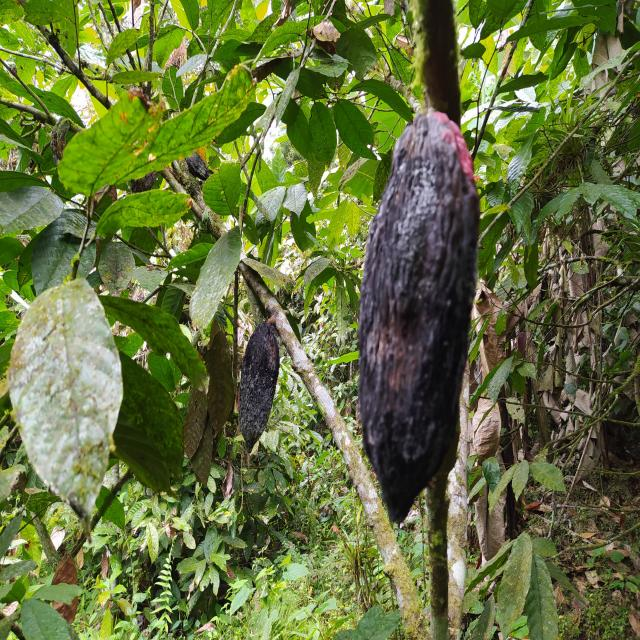Fitoftora: (357, 105, 482, 526), (238, 314, 280, 454)
